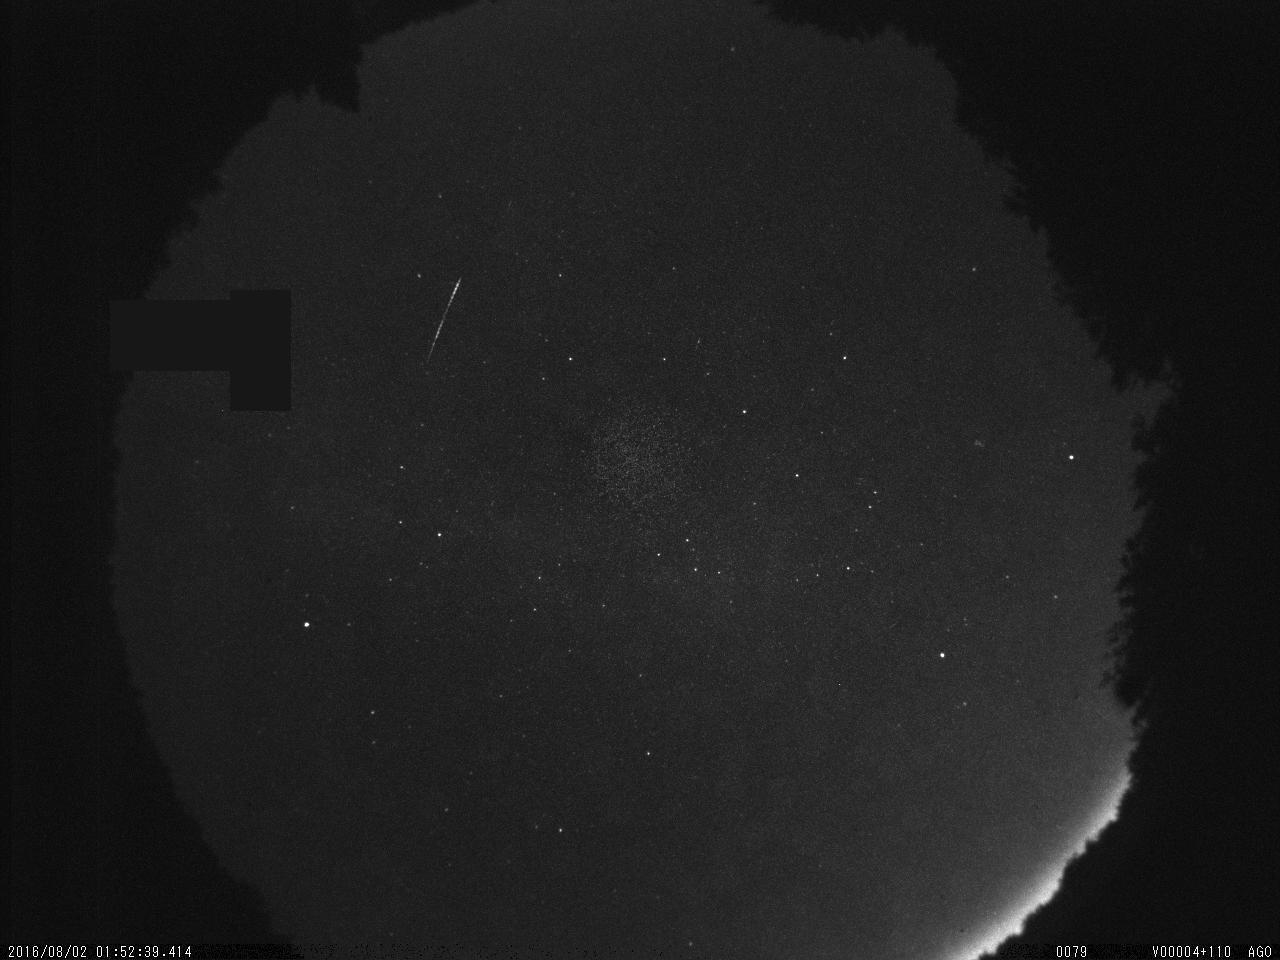meteor: (423, 267, 472, 376)
